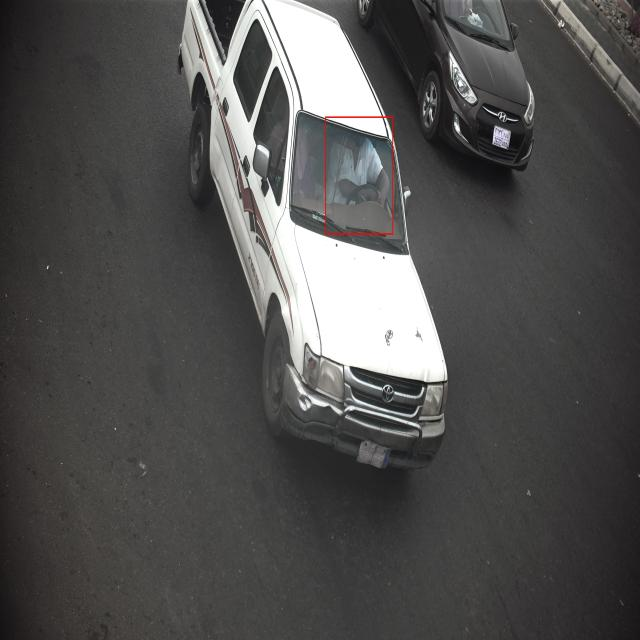windshield: (286, 107, 408, 257), (442, 0, 515, 53)
